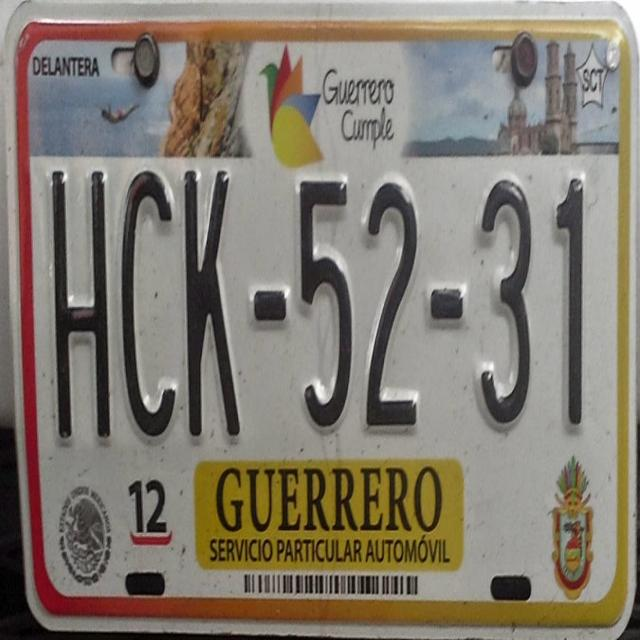placa: (27, 155, 620, 451)
